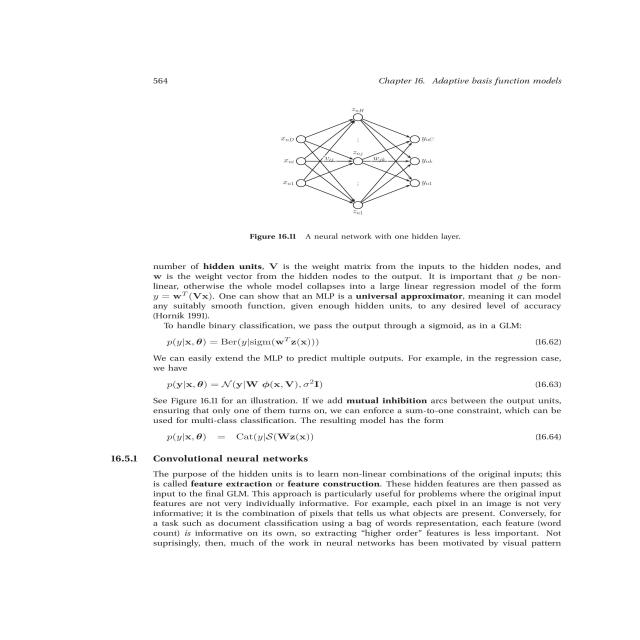diagram: (124, 110, 640, 252)
